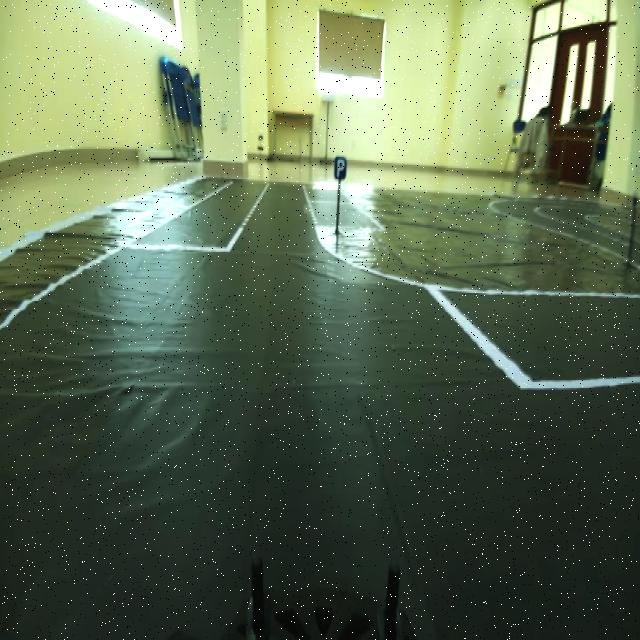parking: (328, 149, 348, 187)
